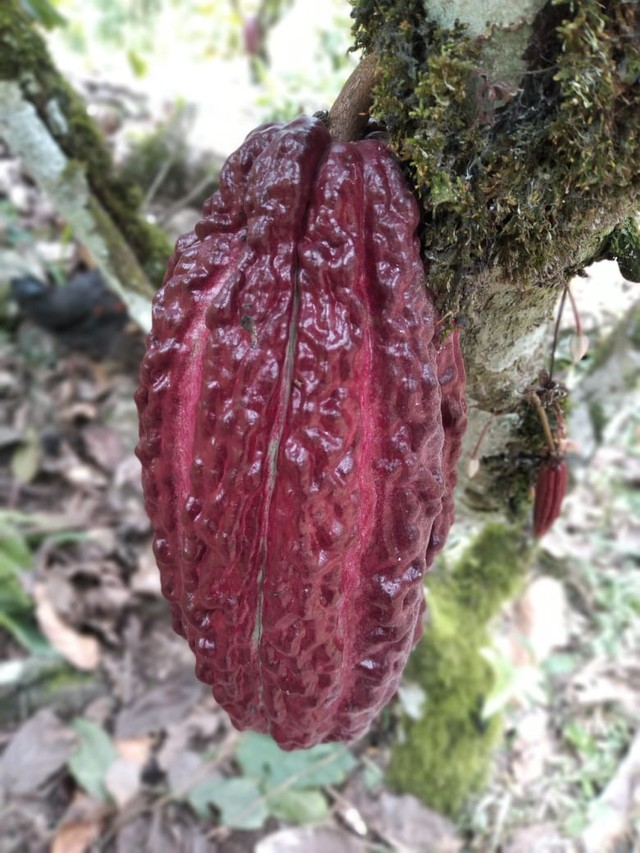Health: (129, 108, 452, 768)
